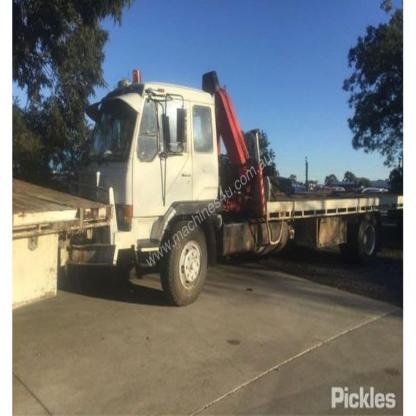truck: (66, 69, 403, 312)
